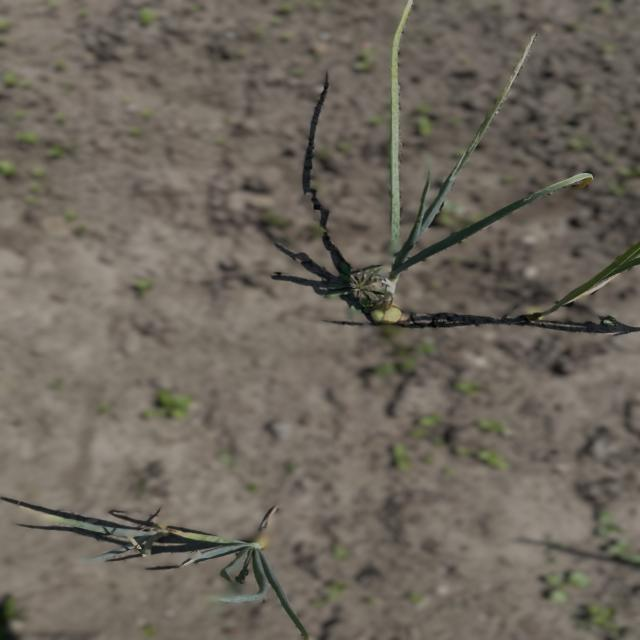Onion: (365, 128, 506, 324), (174, 526, 293, 600), (526, 253, 638, 327), (51, 508, 178, 564)
weed: (331, 261, 384, 314)
